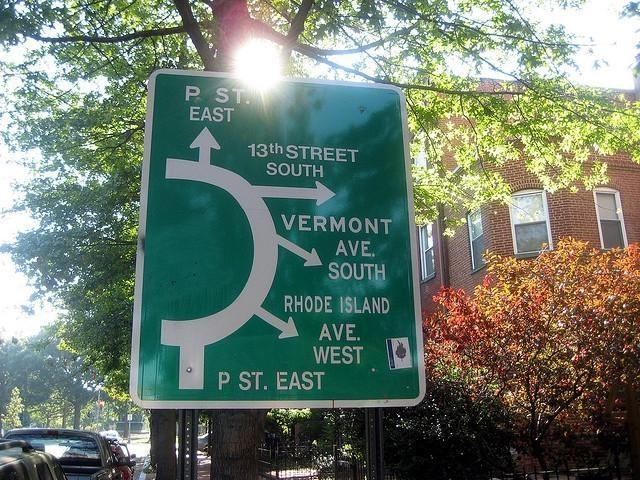car: (1, 429, 130, 480), (1, 444, 66, 480), (108, 438, 136, 480), (198, 432, 208, 452)
